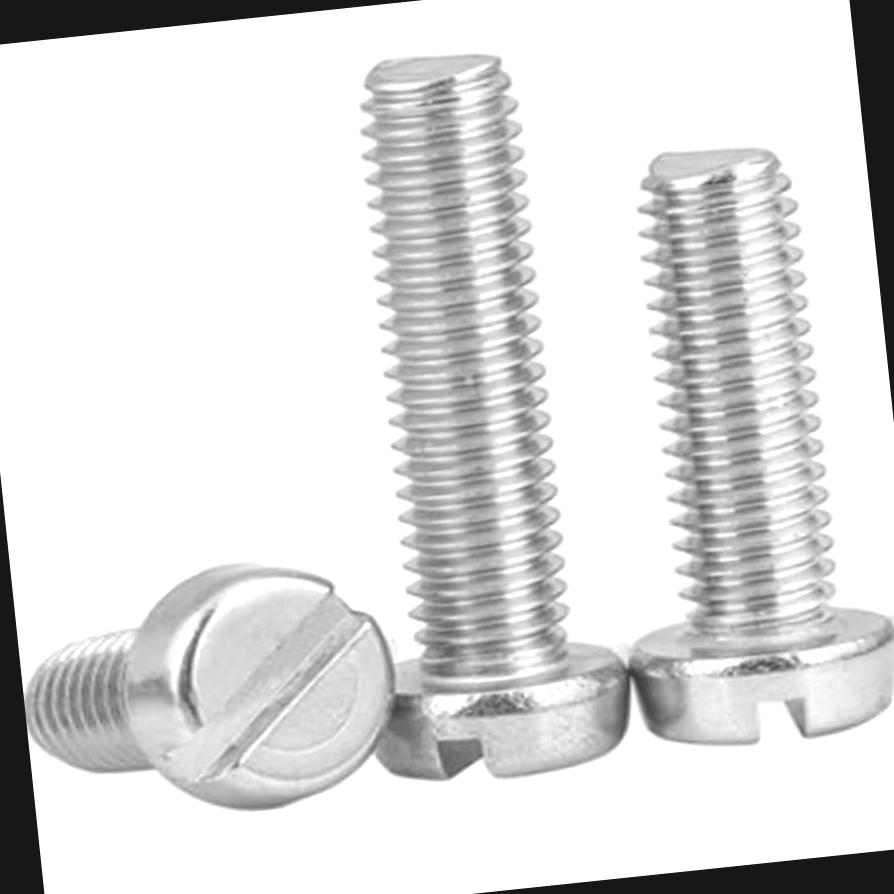slotted: (117, 542, 407, 826)
